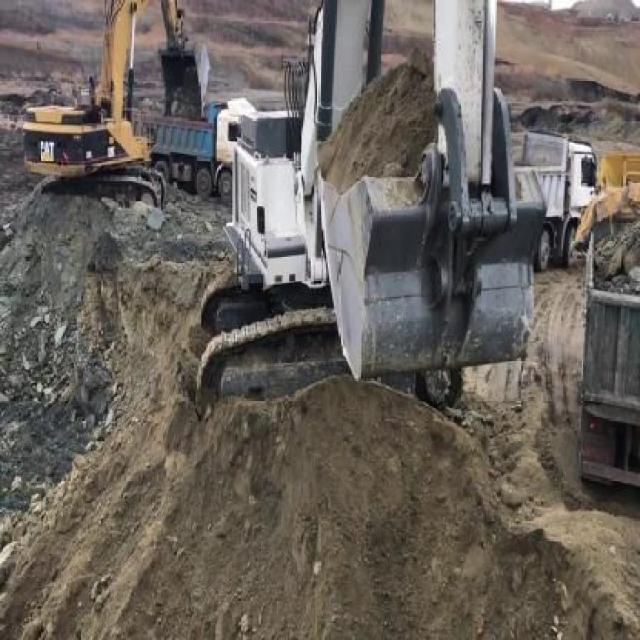dump_truck: (575, 142, 639, 502), (512, 127, 597, 270), (144, 98, 233, 204)
excavator: (192, 0, 537, 423), (22, 0, 208, 206)
